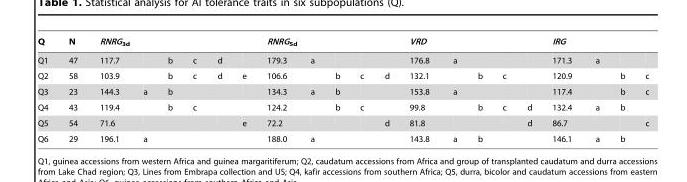table: (37, 36, 648, 143)
table column: (87, 36, 130, 143), (255, 36, 297, 143), (398, 36, 440, 143), (541, 36, 583, 143), (57, 36, 87, 143), (297, 36, 324, 143), (130, 36, 156, 143), (156, 36, 182, 143), (440, 36, 466, 143), (583, 36, 609, 143), (206, 36, 231, 143), (324, 36, 349, 143), (373, 36, 398, 143), (466, 36, 491, 143), (491, 36, 516, 143), (516, 36, 541, 143), (609, 36, 634, 143), (182, 36, 206, 143), (231, 36, 255, 143), (349, 36, 373, 143), (37, 36, 57, 143), (634, 36, 648, 143)
table column header: (37, 36, 648, 67)
table row: (37, 51, 648, 67), (37, 67, 648, 83), (37, 83, 648, 99), (37, 99, 648, 115), (37, 36, 648, 51), (37, 115, 648, 130), (37, 130, 648, 143)
table spanning cell: (87, 36, 255, 51), (255, 36, 398, 51), (398, 36, 541, 51), (541, 36, 648, 51), (57, 36, 87, 67), (37, 36, 57, 67)
